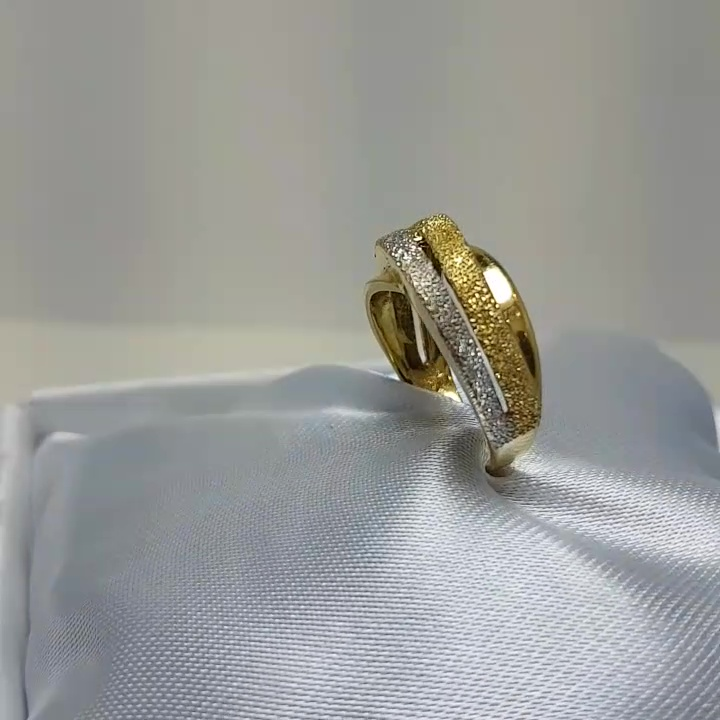Ring 5: (319, 210, 579, 488)
